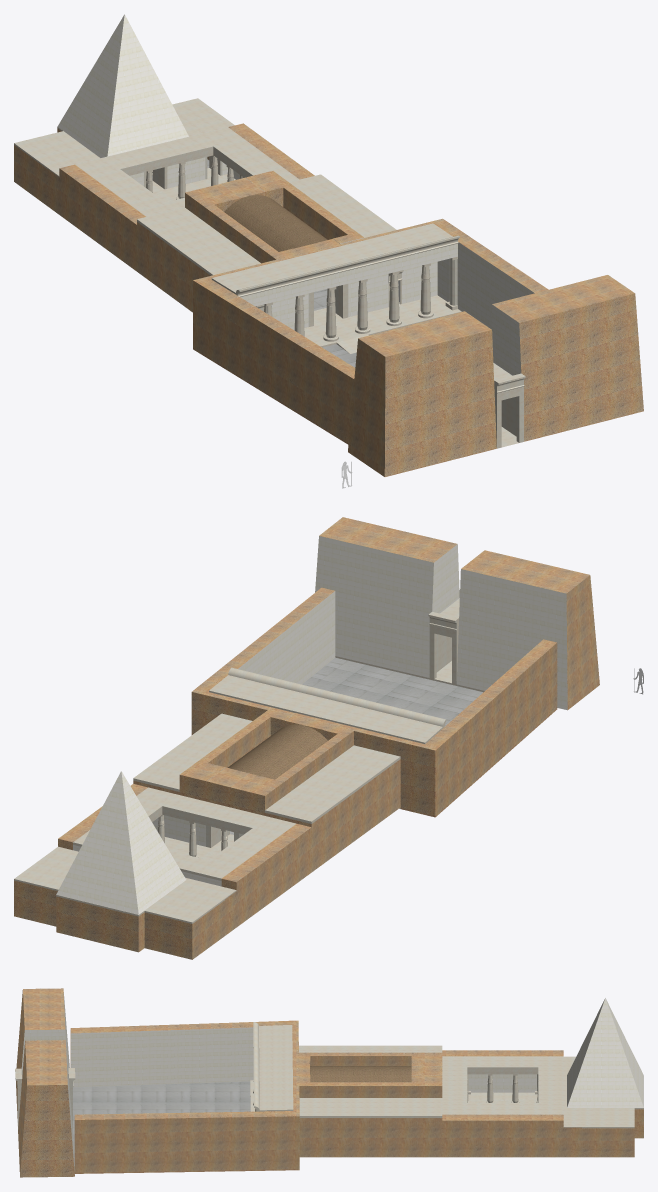
Rendered from Maya_Meryt.obj.
3 views of the same model, one above another, from view 1: azimuth 30°, elevation 25°; view 2: azimuth 150°, elevation 25°; view 3: azimuth 270°, elevation 25° (orthographic). The views are drawn at different scales.
Visible parts, largest first — view 1: Mesh74 Model, Mesh72 Pyramid1 Model, Mesh10 Inner_Court_Roof1 Model, Mesh1 Roof_B1 Model, Mesh73 West_Roof1 Model, Mesh49 Statue_Vault1 Model, Mesh16 roof_A1 Model, Mesh68 Cornice1 Model, Mesh75 Model; view 2: Mesh74 Model, Mesh72 Pyramid1 Model, Mesh10 Inner_Court_Roof1 Model, Mesh1 Roof_B1 Model, Mesh73 West_Roof1 Model, Mesh16 roof_A1 Model, Mesh49 Statue_Vault1 Model, Mesh68 Cornice1 Model, Mesh75 Model; view 3: Mesh74 Model, Mesh72 Pyramid1 Model, Mesh10 Inner_Court_Roof1 Model, Mesh16 roof_A1 Model, Mesh73 West_Roof1 Model, Mesh49 Statue_Vault1 Model, Mesh1 Roof_B1 Model, Mesh68 Cornice1 Model, Mesh75 Model.
Part boxes in pixels (x1,y1,x2,y2): Mesh74 Model: [14, 123, 643, 476]; Mesh72 Pyramid1 Model: [57, 14, 188, 157]; Mesh10 Inner_Court_Roof1 Model: [75, 127, 299, 216]; Mesh1 Roof_B1 Model: [137, 207, 260, 275]; Mesh73 West_Roof1 Model: [14, 98, 234, 176]; Mesh49 Statue_Vault1 Model: [224, 195, 327, 251]; Mesh16 roof_A1 Model: [289, 174, 396, 237]; Mesh68 Cornice1 Model: [236, 235, 459, 295]; Mesh75 Model: [123, 149, 250, 177]; Mesh74 Model: [14, 517, 599, 959]; Mesh72 Pyramid1 Model: [56, 771, 186, 914]; Mesh10 Inner_Court_Roof1 Model: [73, 787, 295, 880]; Mesh1 Roof_B1 Model: [265, 745, 400, 823]; Mesh73 West_Roof1 Model: [14, 846, 236, 923]; Mesh16 roof_A1 Model: [133, 713, 252, 791]; Mesh49 Statue_Vault1 Model: [228, 724, 327, 779]; Mesh68 Cornice1 Model: [228, 667, 446, 727]; Mesh75 Model: [149, 808, 249, 834]; Mesh74 Model: [15, 988, 643, 1177]; Mesh72 Pyramid1 Model: [567, 998, 643, 1107]; Mesh10 Inner_Court_Roof1 Model: [442, 1056, 563, 1114]; Mesh16 roof_A1 Model: [299, 1098, 442, 1117]; Mesh73 West_Roof1 Model: [563, 1056, 643, 1128]; Mesh49 Statue_Vault1 Model: [310, 1066, 411, 1082]; Mesh1 Roof_B1 Model: [299, 1045, 442, 1052]; Mesh68 Cornice1 Model: [253, 1022, 259, 1111]; Mesh75 Model: [467, 1069, 538, 1074].
Bounding box in the file's own units: 19.41 × 9.72 × 44.17.
